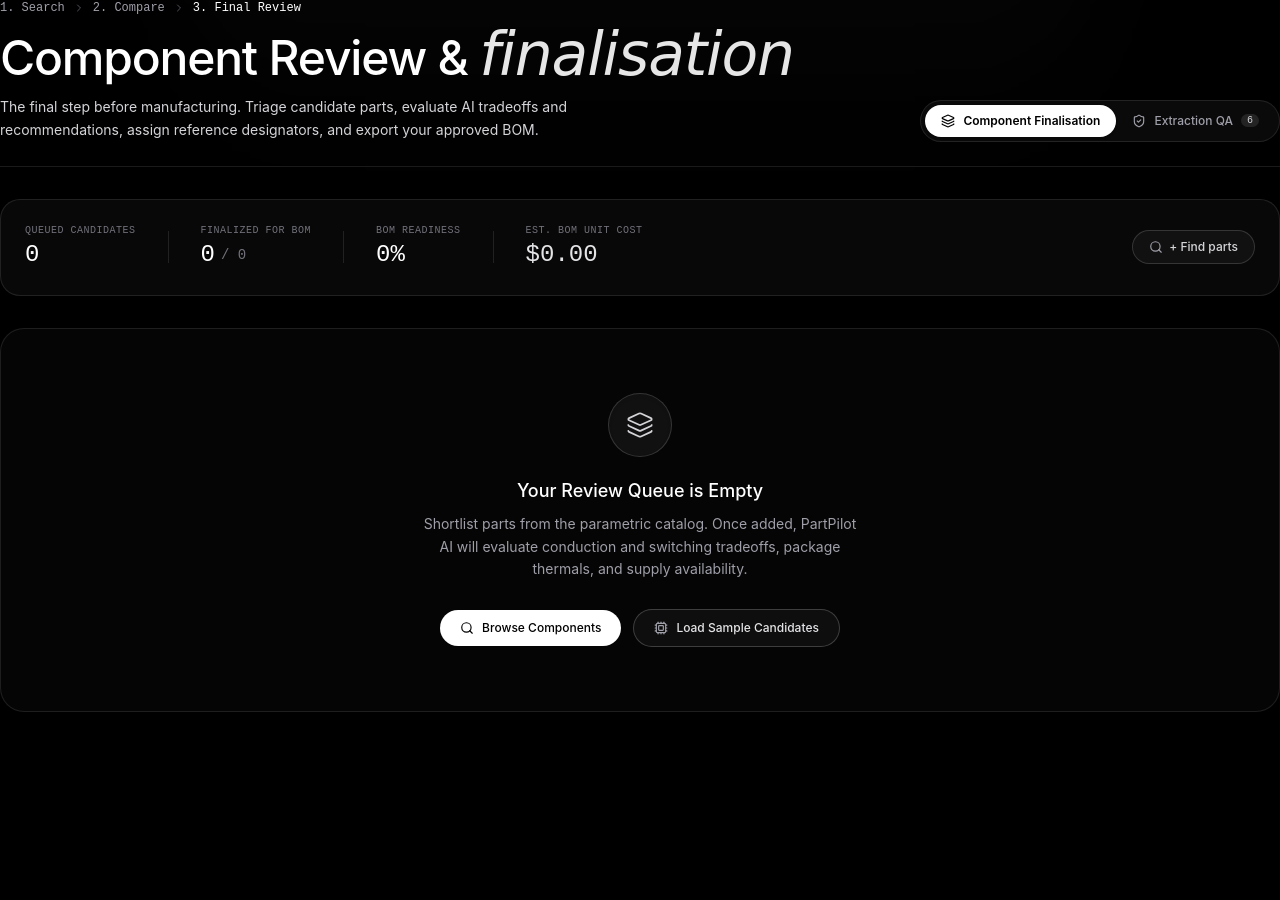
the redone review queue › allows reviewing candidate components and viewing AI tradeoffs and recommendations
Click the button "Load Sample Candidates". click: click(737, 628)
box: [633,609,840,647]
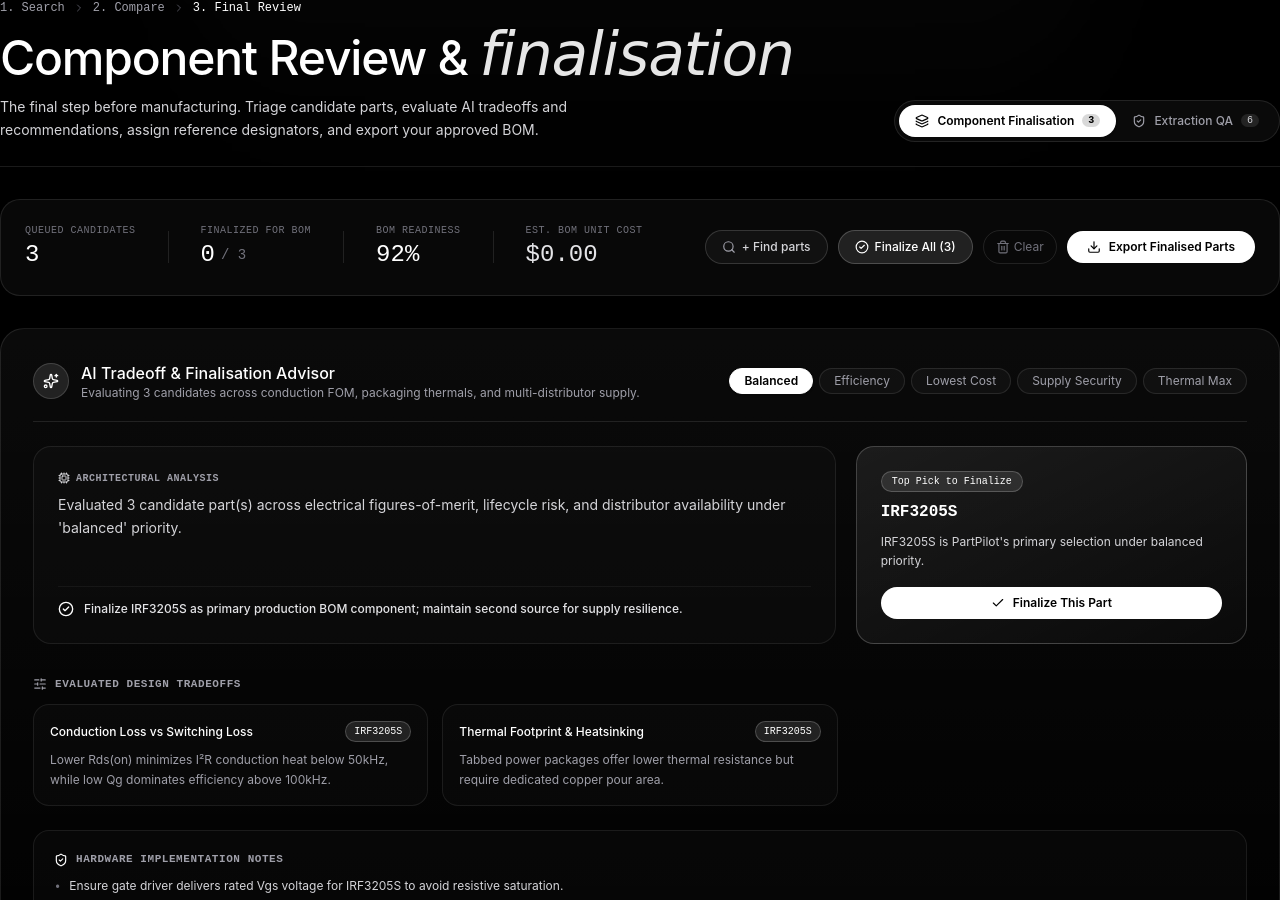
Check: the text "IRF3205S" below "Top Pick to Finalize" is shown, box [881,503,958,521]
Check: the text "AI Tradeoff & Finalisation Advisor" is shown, box [81,361,335,385]
Check: the text "Conduction Loss vs Switching Loss" is shown, box [50,724,253,740]
Click the button "Finalize All (3)". click: click(905, 247)
box: [838,230,973,264]
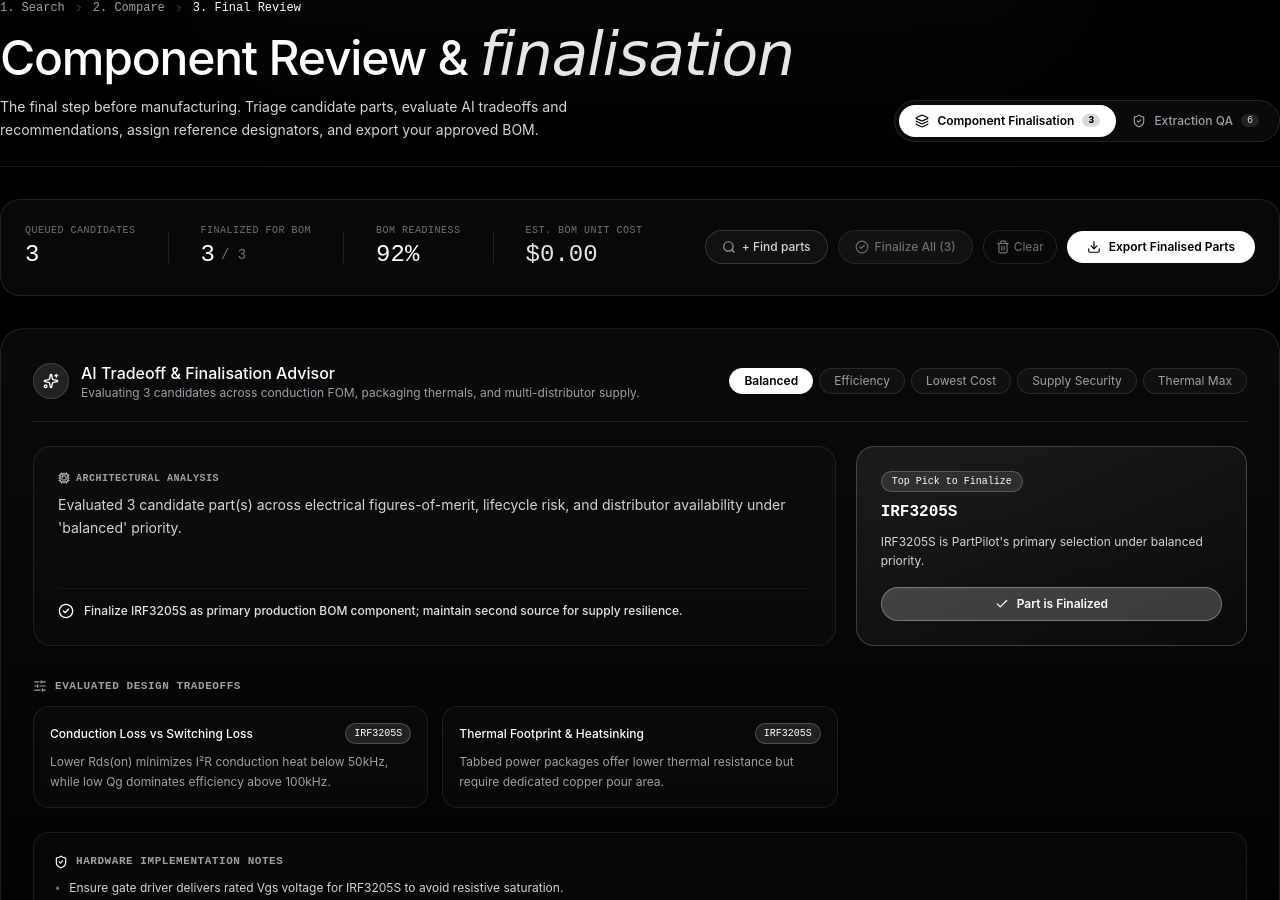
Verify export button opens export modal
Click the button "Export Finalised Parts". click: click(1161, 247)
box: [1067,231,1255,263]
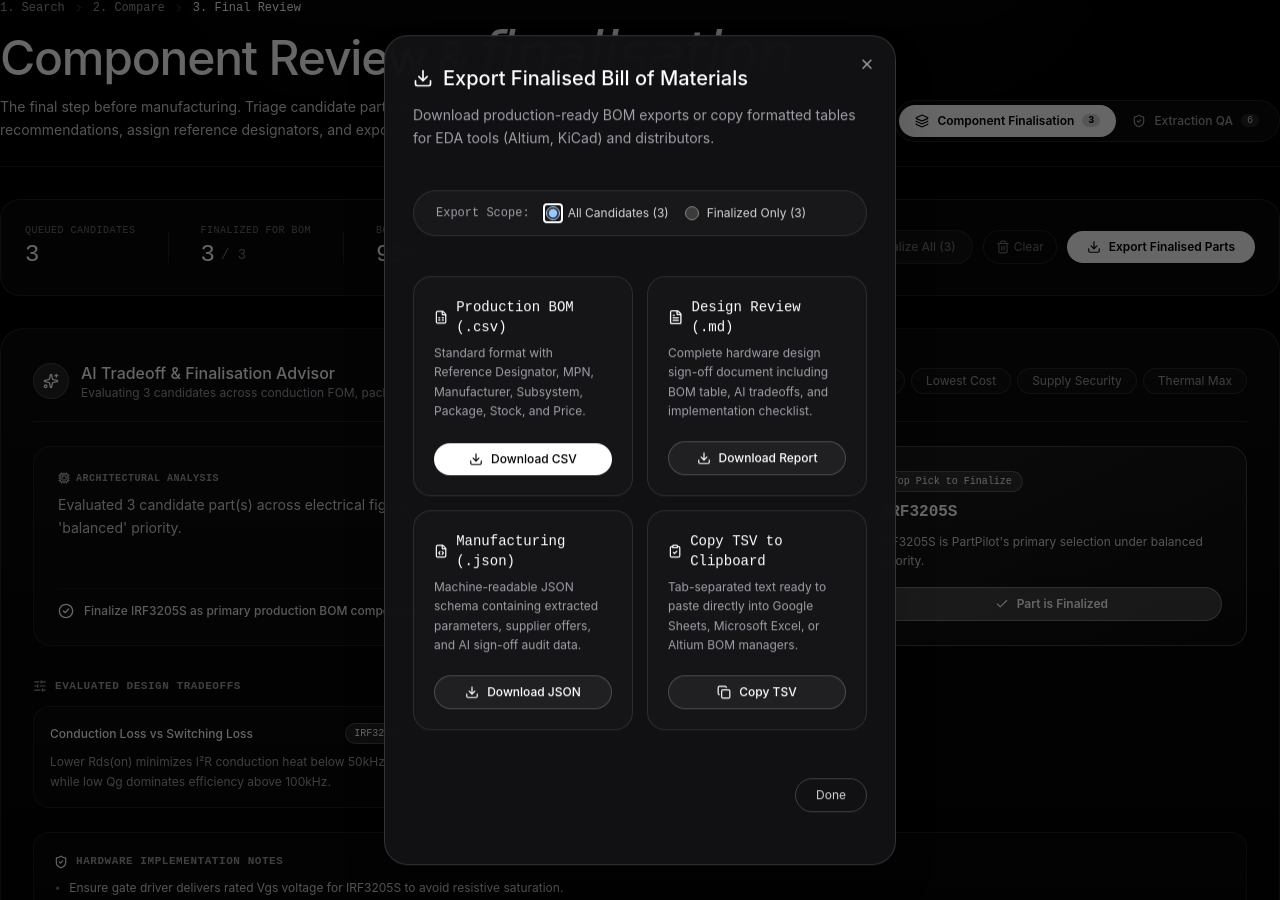
Check: the text "Export Finalised Bill of Materials" is shown, box [443,64,748,92]
Check: the button "Download CSV" is shown, box [434,443,612,475]
Check: the button "Download JSON" is shown, box [434,675,612,709]
